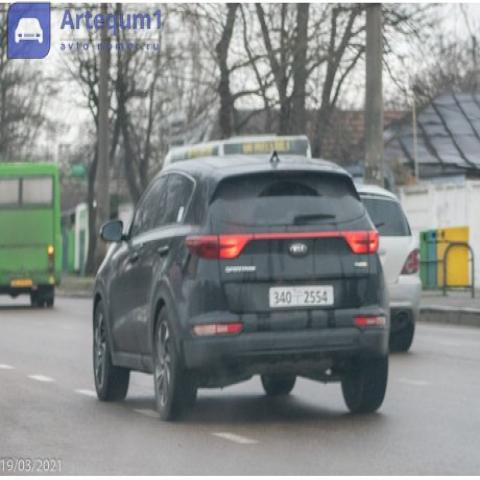LP: (268, 277, 342, 318)
